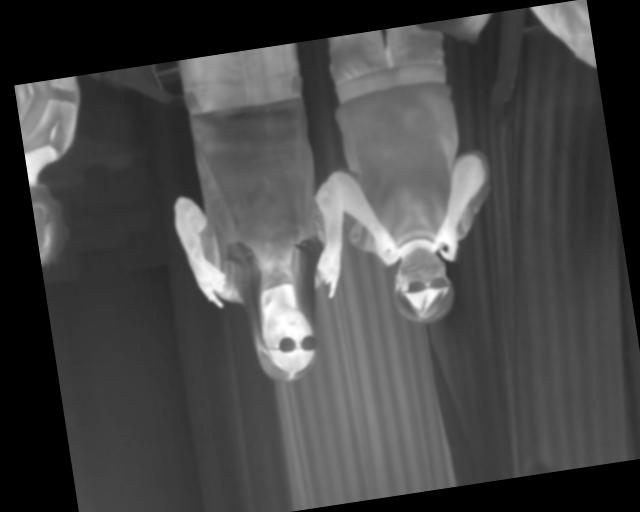face: (387, 243, 457, 327), (254, 304, 322, 384)
